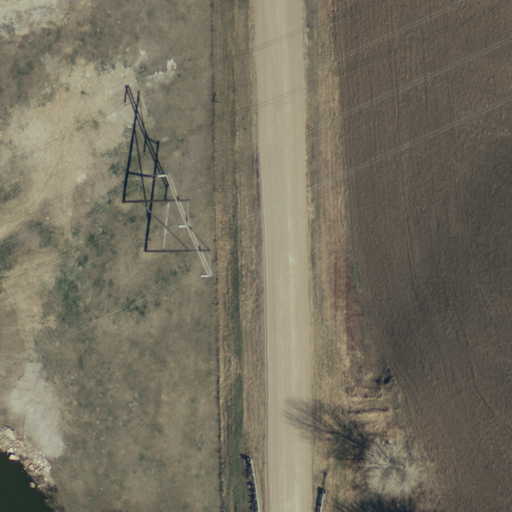TT: (122, 171, 213, 278)
